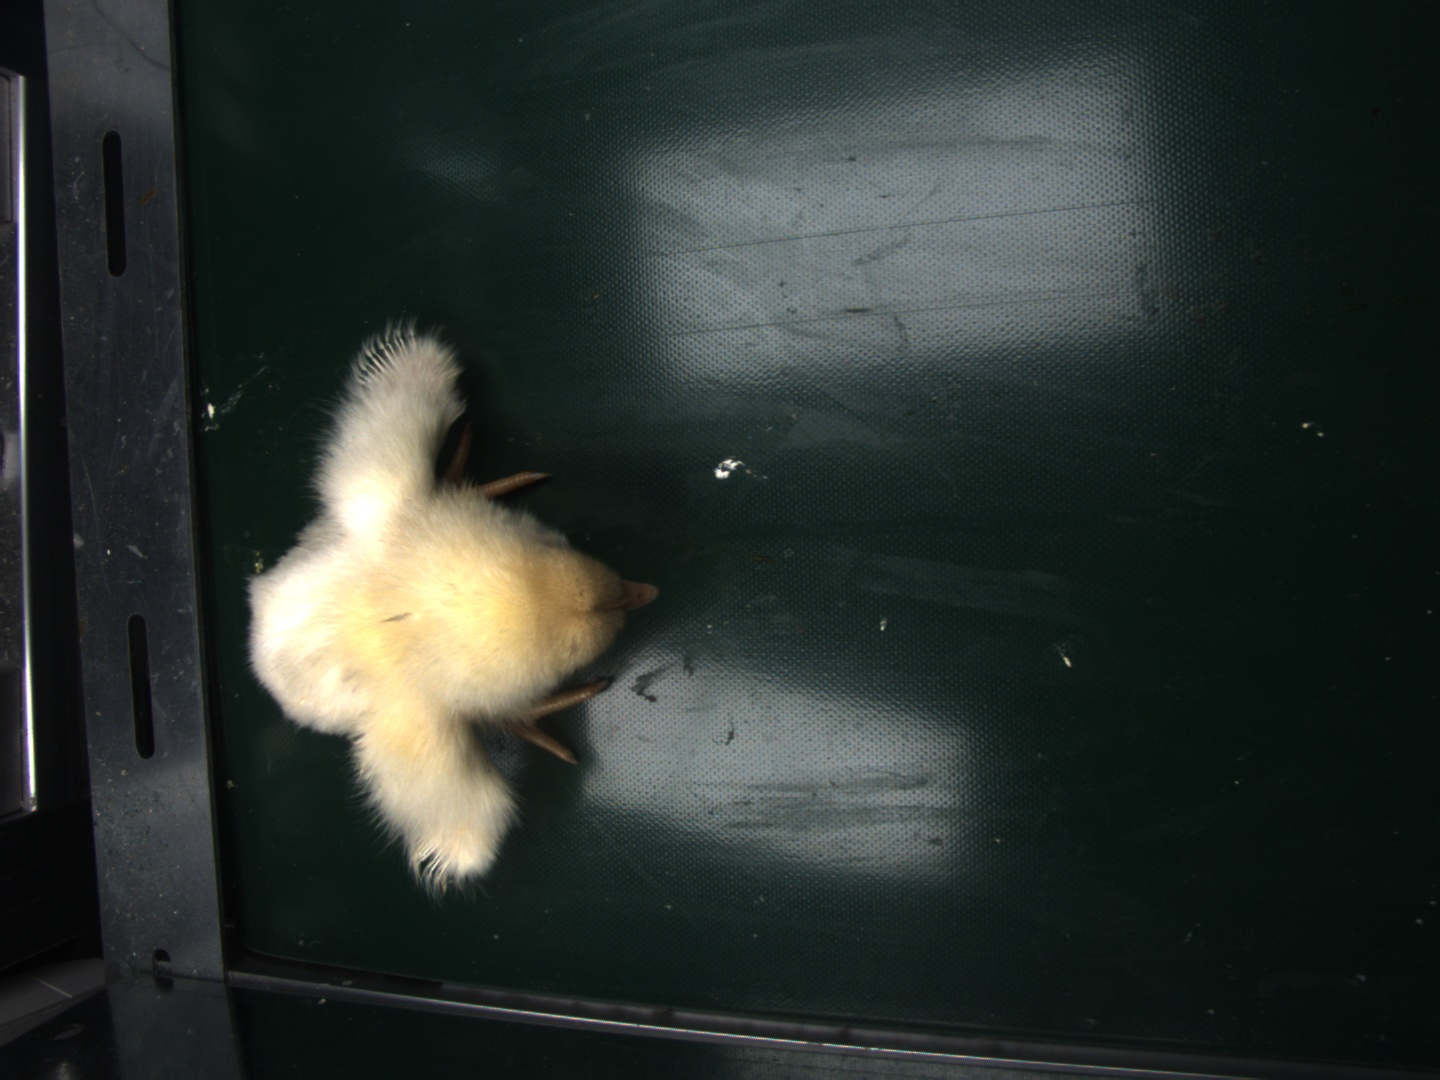male: (357, 334, 417, 386)
